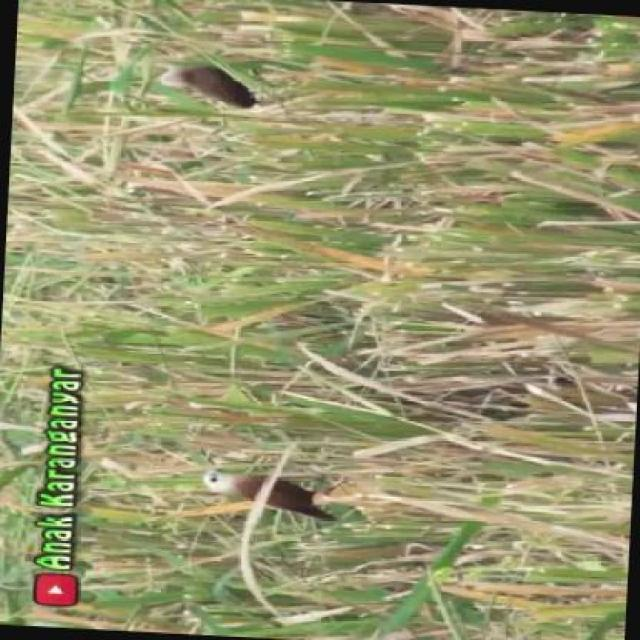Bird: (193, 449, 365, 543), (154, 49, 287, 154)
